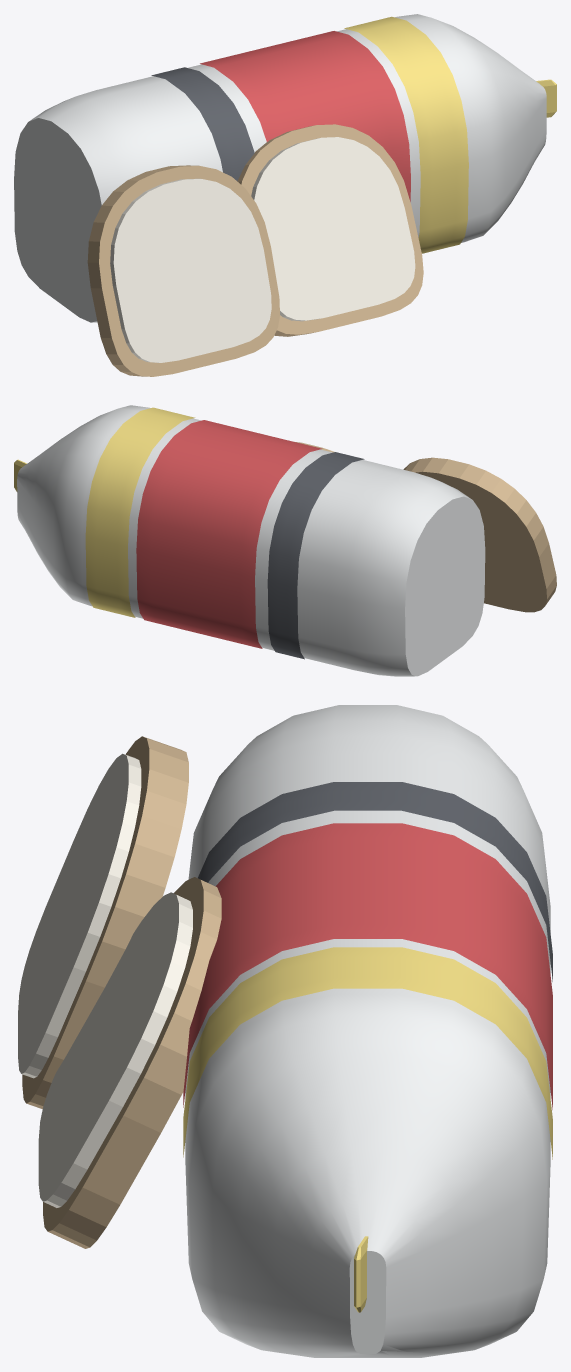
File: fresh-produce-and-groceries-sliced-loaf-bag-0a2aa4f8__24412.glb
The picture shows the model from 3 angles, top to bottom: view 1: azimuth 30°, elevation 25°; view 2: azimuth 150°, elevation 25°; view 3: azimuth 270°, elevation 25°; orthographic projection. The views are drawn at different scales.
Parts seen in each view (by area): view 1: sliced-loaf-bag; view 2: sliced-loaf-bag; view 3: sliced-loaf-bag.
Boxes of the visible parts, left/top/right/bottom form: sliced-loaf-bag: left=14, top=14, right=556, bottom=376; sliced-loaf-bag: left=14, top=405, right=556, bottom=676; sliced-loaf-bag: left=18, top=705, right=552, bottom=1357.
Size of the model in its own units: 0.3311 by 0.119 by 0.164.
